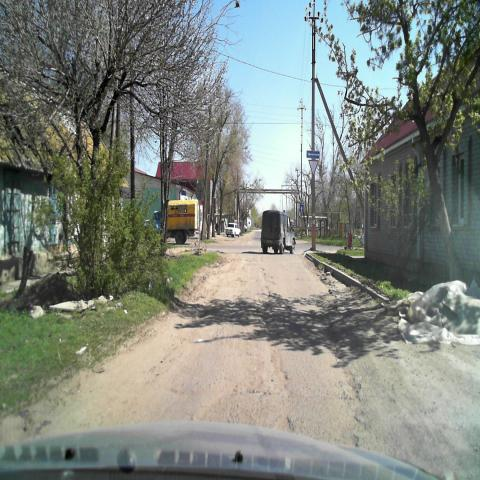2_4: (308, 159, 318, 176)
5_5: (299, 203, 304, 212)
5_7_2: (306, 150, 319, 159)
